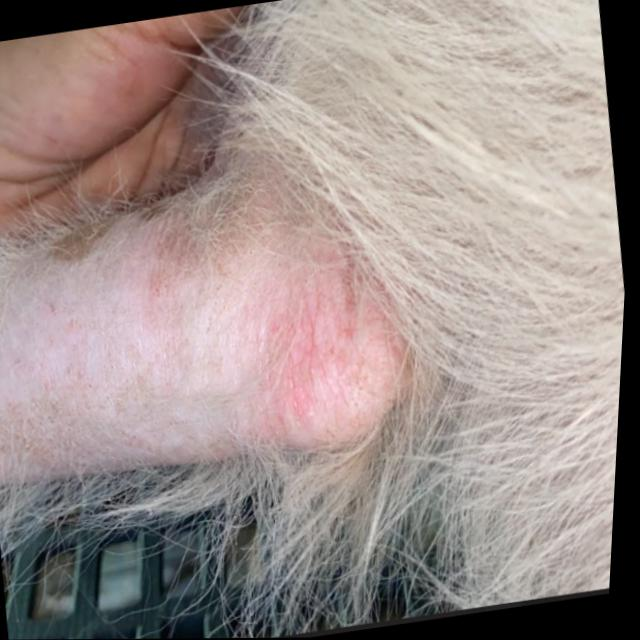demodicosis: (0, 165, 430, 509)
